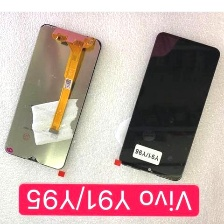phone: (114, 29, 223, 184), (2, 21, 106, 173)
